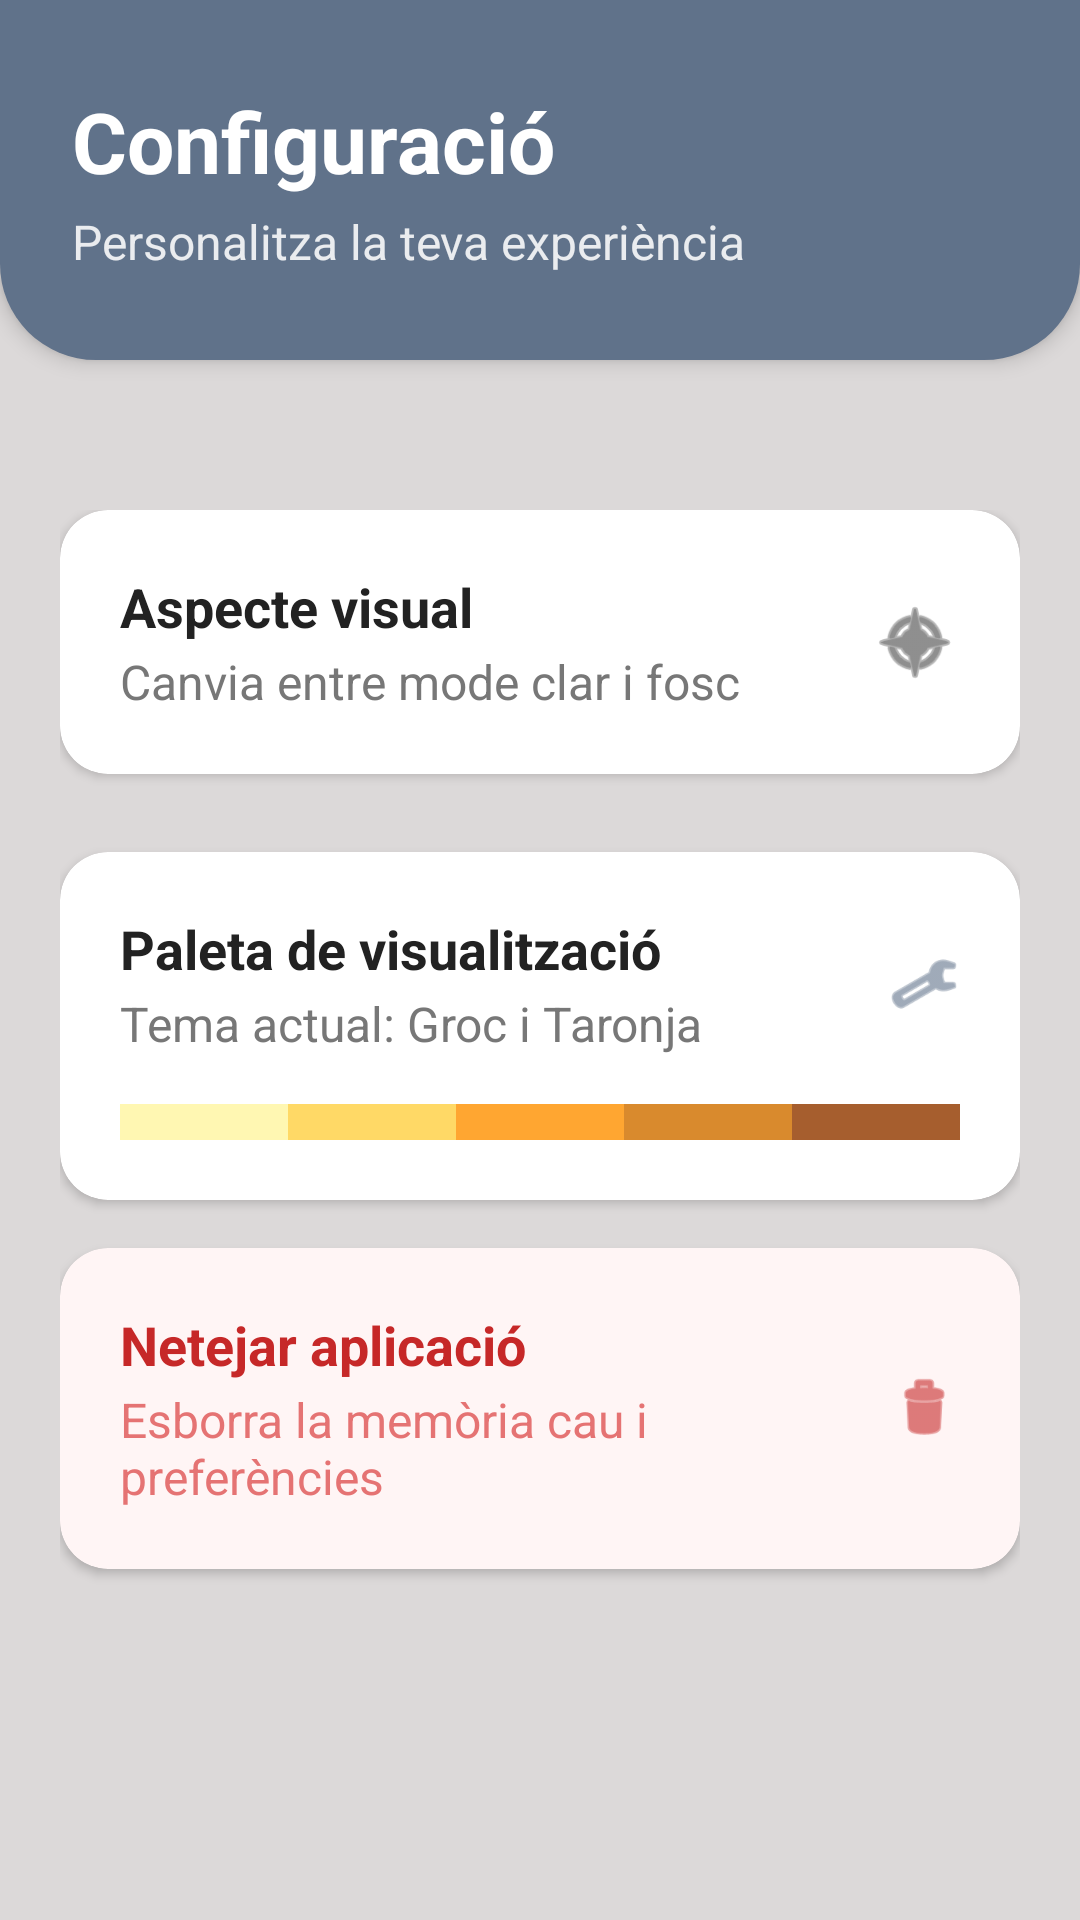

Where to tap for icons on this 1080 x 1920 app screen, as (x=x, y=y):
delete: (x=924, y=1407)
manage: (x=924, y=984)
